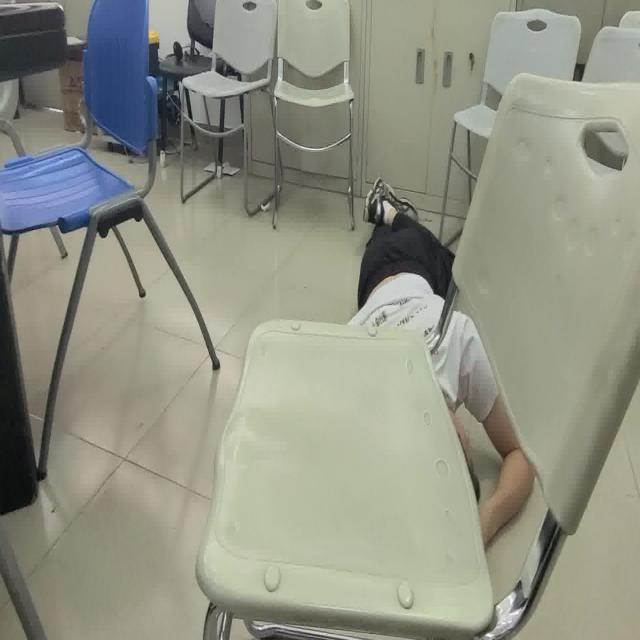Fall-Detected: (347, 175, 535, 545)
